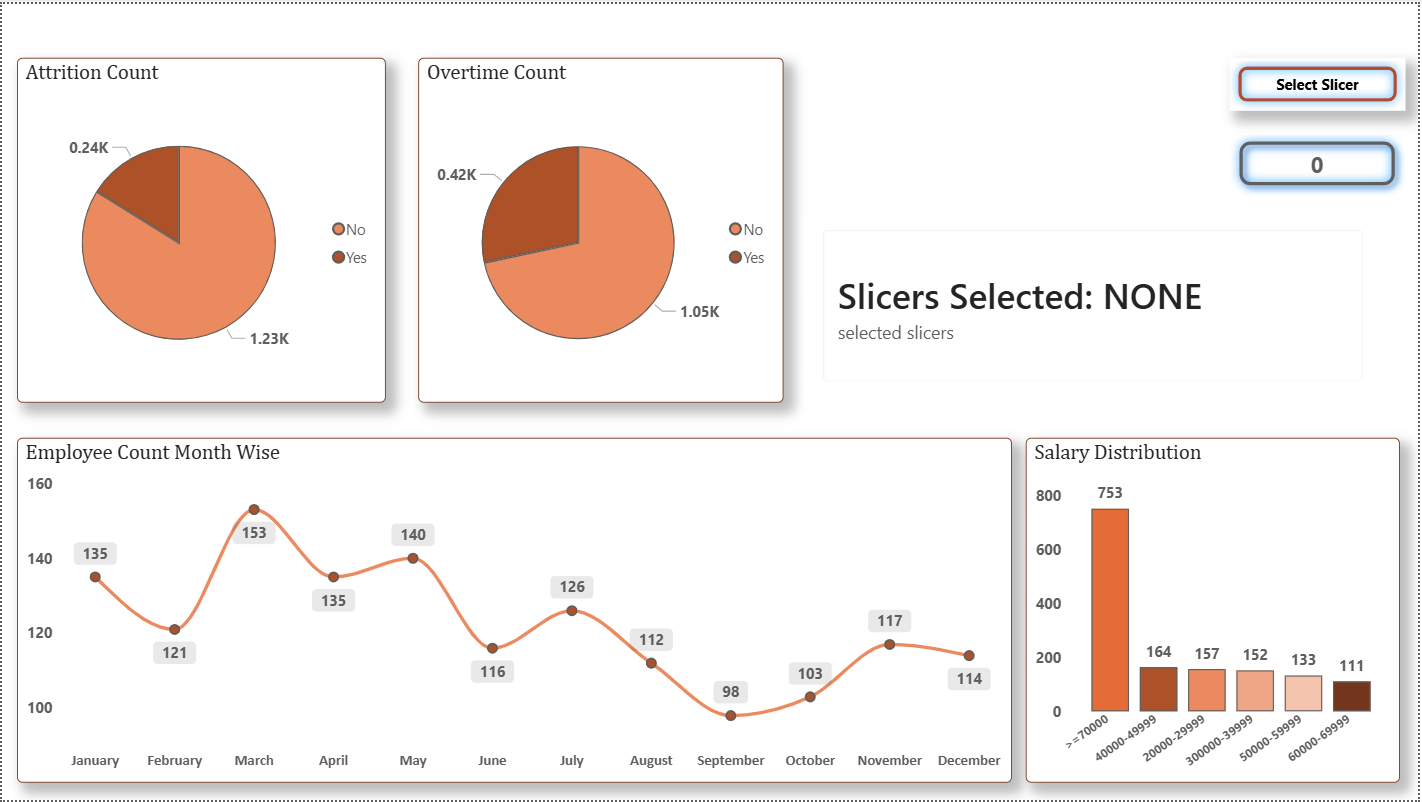

Layout of this report page (visuals, bound fields, positions):
{"tool":"powerbi","page":{"name":"DashBoard","canvas":[1280,720],"ordinal":0},"visuals":[{"type":"group","id":"g1","title":"Visuals","box":[14,48.8,1251.2,655.8],"z":0},{"type":"lineChart","title":"Employee Count Month Wise","fields":{"Category":["Employee.HireDate.Variation.Date Hierarchy.Month"],"Y":["CountNonNull(Employee.EmployeeID)"]},"box":[14,393,900,311.6],"z":0,"group":"g1"},{"type":"pieChart","title":"Attrition Count","fields":{"Y":["CountNonNull(Employee.EmployeeID)"],"Category":["Employee.Attrition"]},"box":[14,48.8,333.7,311.6],"z":1000,"group":"g1"},{"type":"actionButton","title":"Select Slicer","box":[1110.5,48.8,159.3,47.7],"z":1000},{"type":"cardVisual","fields":{"Data":["Measures (2).selected slicers"]},"box":[725.9,187.7,522.4,171.9],"z":1500},{"type":"pieChart","title":"Overtime Count","fields":{"Y":["CountNonNull(Employee.EmployeeID)"],"Category":["Employee.OverTime"]},"box":[376.8,48.8,330.2,311.6],"z":2000,"group":"g1"},{"type":"actionButton","box":[1110.7,115.3,158.5,57.6],"z":2000},{"type":"columnChart","title":"Salary Distribution","fields":{"Category":["Employee.SalaryBins"],"Y":["CountNonNull(Employee.EmployeeID)"]},"box":[926.8,393,338.4,311.6],"z":3000,"group":"g1"}]}

Visuals, with their boxes in screenshot pixels (x1, y1, x2, y2), scaled from the page's 1280x720 canvas onto the 1422x802 screenshot:
"Visuals" group: 16:54:1406:785
"Employee Count Month Wise" lineChart: 16:438:1015:785
"Attrition Count" pieChart: 16:54:386:401
"Select Slicer" actionButton: 1234:54:1411:107
cardVisual - Measures (2).selected slicers: 806:209:1387:401
"Overtime Count" pieChart: 419:54:785:401
actionButton: 1234:128:1410:193
"Salary Distribution" columnChart: 1030:438:1406:785
